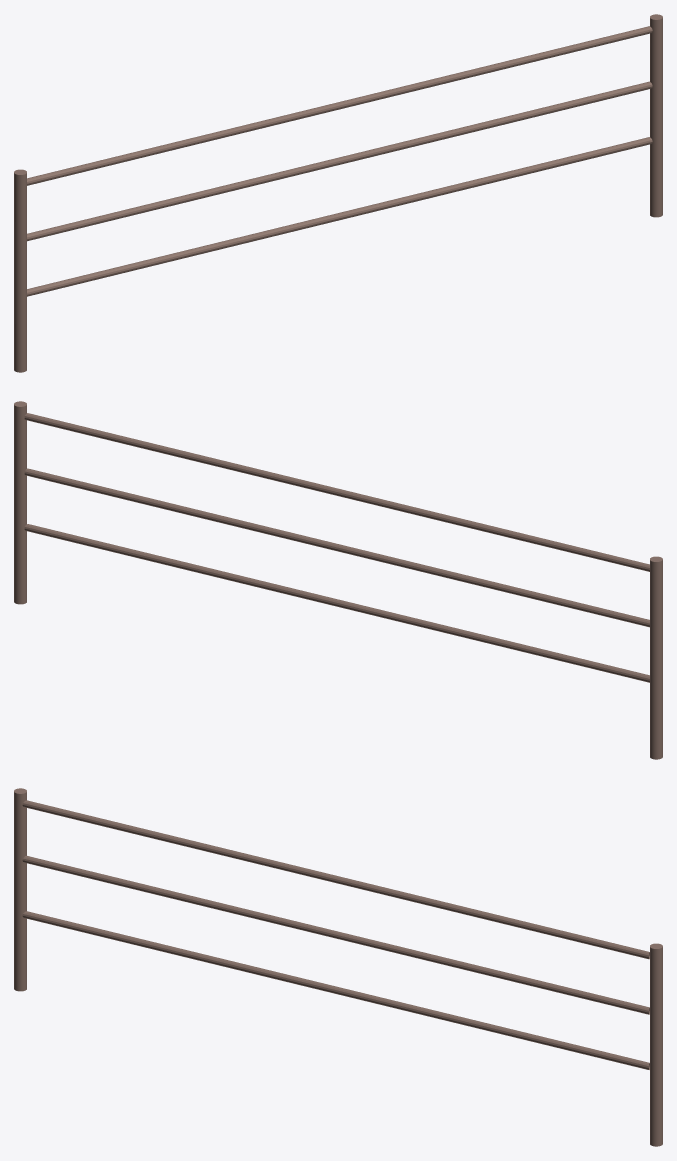
Rendered from StreetFurniture_Fence_01.fbx.
The picture shows the model from 3 angles, top to bottom: view 1: azimuth 30°, elevation 25°; view 2: azimuth 150°, elevation 25°; view 3: azimuth 330°, elevation 25°; orthographic projection.
Visible parts, largest first — view 1: Prop_Fence_01_Mesh_LOD0; view 2: Prop_Fence_01_Mesh_LOD0; view 3: Prop_Fence_01_Mesh_LOD0.
Part boxes in pixels (x1,y1,x2,y2): Prop_Fence_01_Mesh_LOD0: (14, 14, 662, 372); Prop_Fence_01_Mesh_LOD0: (14, 401, 662, 759); Prop_Fence_01_Mesh_LOD0: (14, 788, 662, 1146).
Size of what is drawn, in the model's own units: 306 by 89.1 by 5.41.
